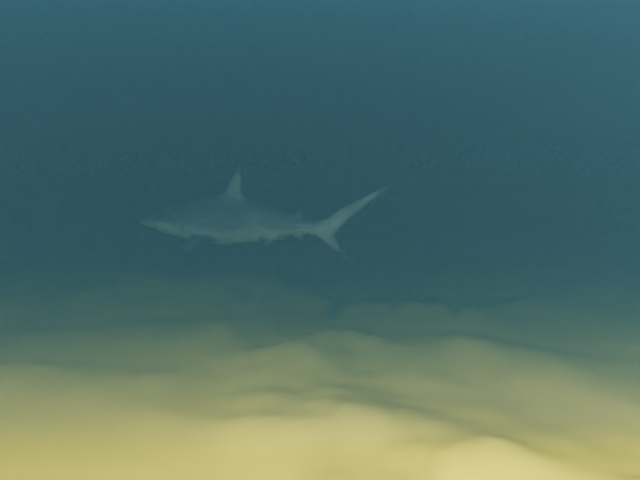Carribean Shark.001: (140, 168, 392, 258)
